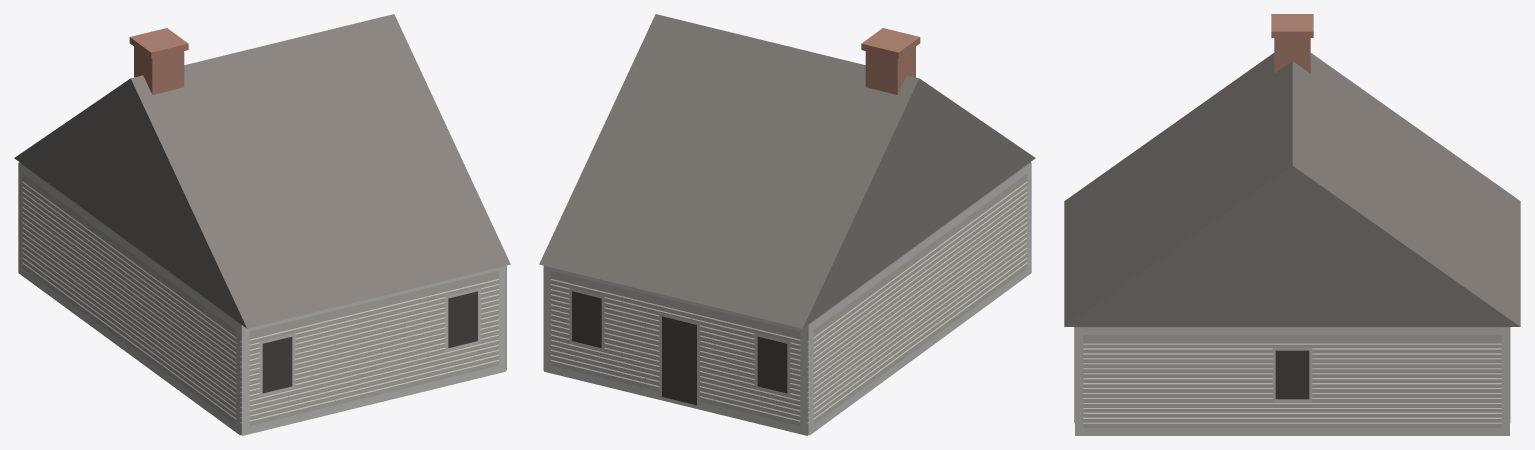
The model's file is recon_1835_south_d5_034__inferred_1835.glb.
3 views of the same model, side by side, from view 1: azimuth 30°, elevation 25°; view 2: azimuth 150°, elevation 25°; view 3: azimuth 270°, elevation 25° (orthographic). The views are drawn at different scales.
Visible parts, largest first — view 1: recon_1835_south_d5_034__inferred_1835; view 2: recon_1835_south_d5_034__inferred_1835; view 3: recon_1835_south_d5_034__inferred_1835.
Boxes of the visible parts, box(x1,y1,x2,y2) form: recon_1835_south_d5_034__inferred_1835: box(14, 14, 510, 435); recon_1835_south_d5_034__inferred_1835: box(539, 14, 1035, 435); recon_1835_south_d5_034__inferred_1835: box(1064, 14, 1520, 435).
Bounding box in the file's own units: 7.01 × 7.71 × 10.62.
